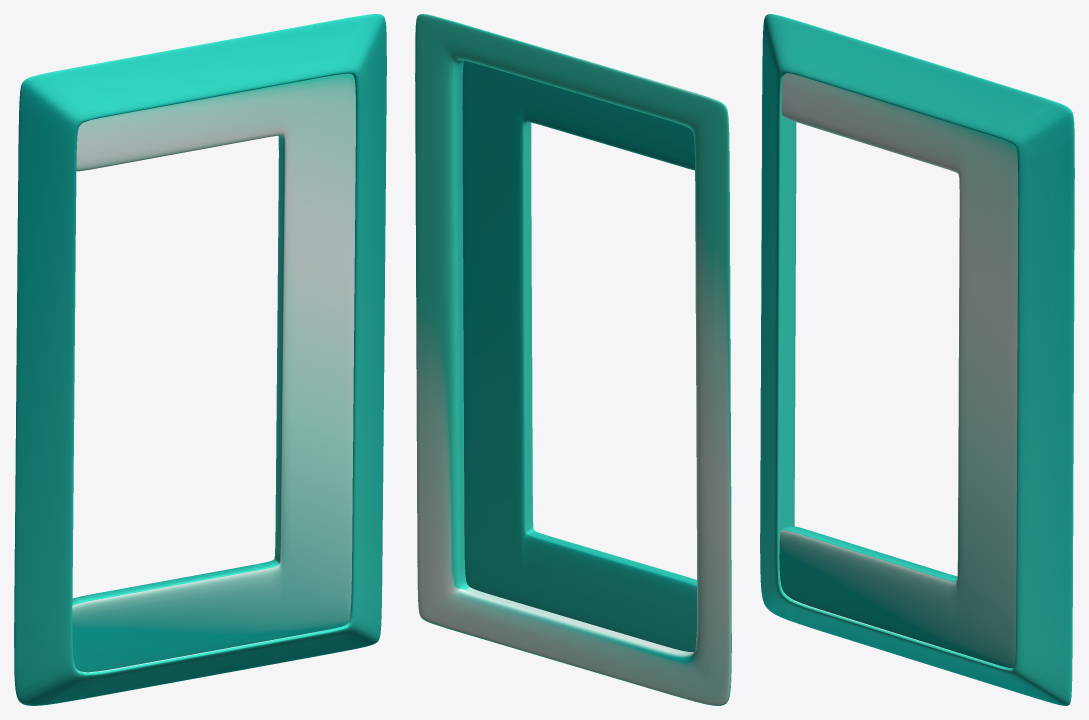
File: cassette-door.obj
3 renders of one model, left to right at view 1: azimuth 30°, elevation 25°; view 2: azimuth 150°, elevation 25°; view 3: azimuth 330°, elevation 25°, orthographic. The views are drawn at different scales.
Size of the model in its own units: 85.23 by 147 by 15.59.
Materials: 1 (1 with a texture image).
